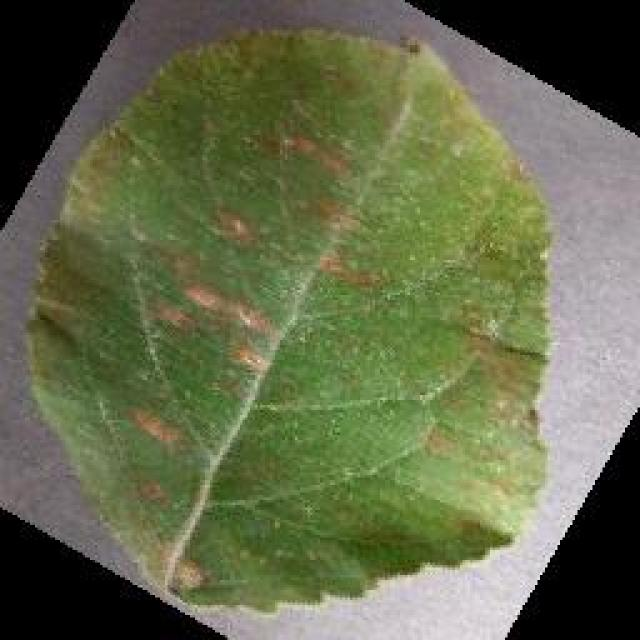apple cedar apple rust: (20, 22, 555, 618)
